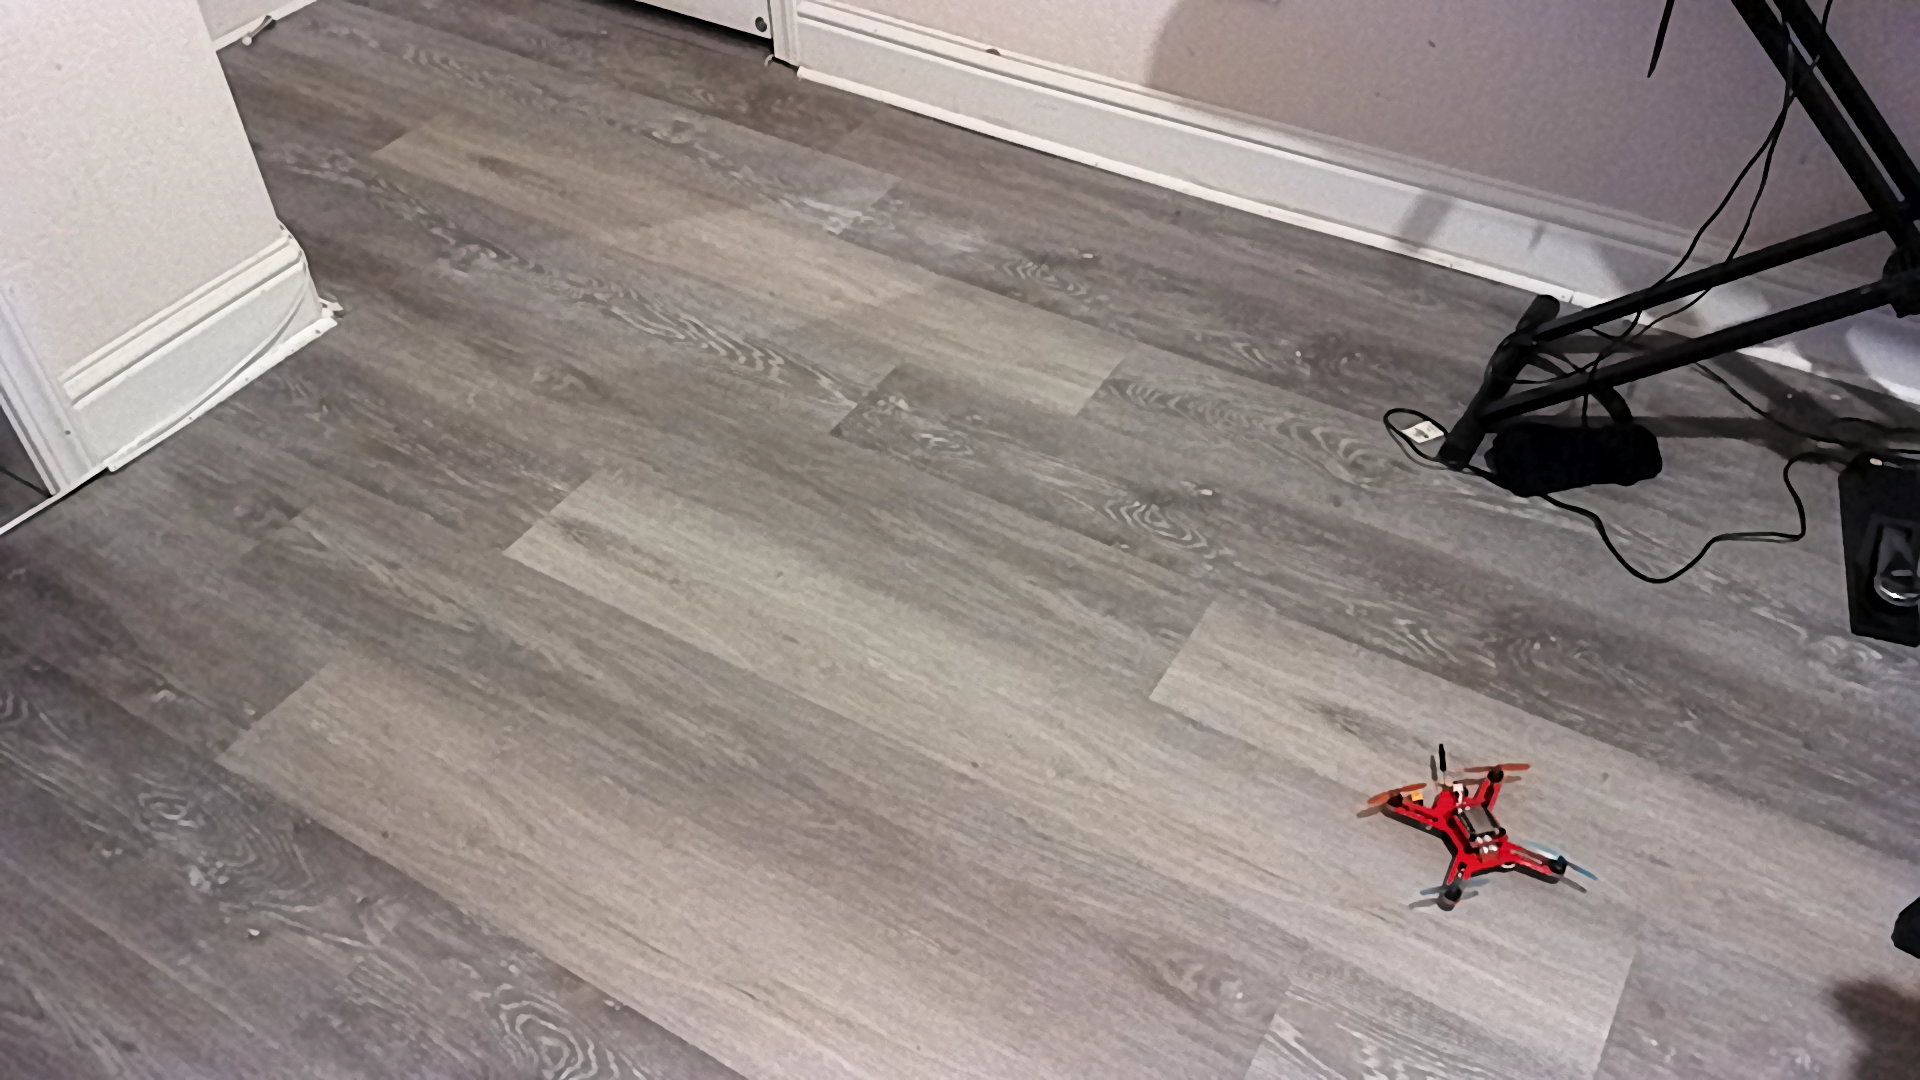drone: (1367, 740, 1607, 918)
